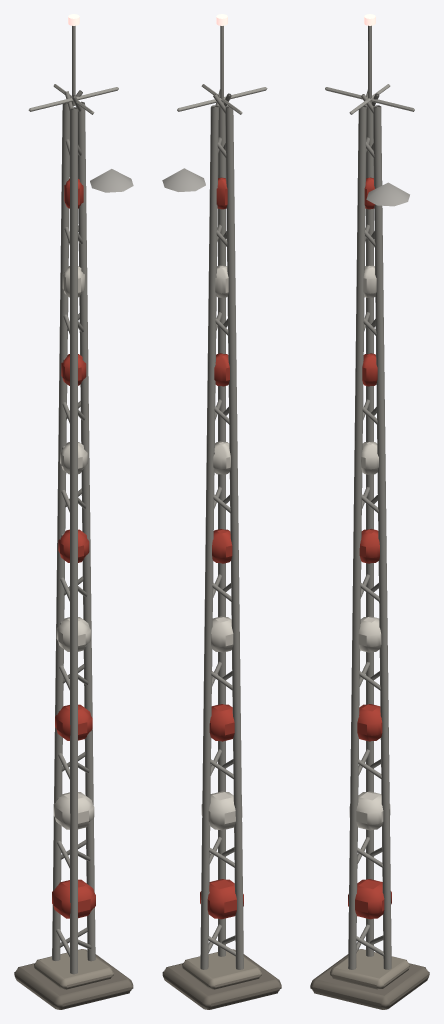
File: mast.glb
3 views of the same model, side by side, from view 1: azimuth 30°, elevation 25°; view 2: azimuth 210°, elevation 25°; view 3: azimuth 330°, elevation 25° (orthographic).
Parts seen in each view (by area): view 1: body; view 2: body; view 3: body.
Boxes of the visible parts, box(x1,y1,x2,y2) form: body: box(14, 14, 133, 1009); body: box(162, 14, 281, 1009); body: box(310, 14, 429, 1009).
Size of the model in its own units: 1.65 by 16.51 by 1.4.
